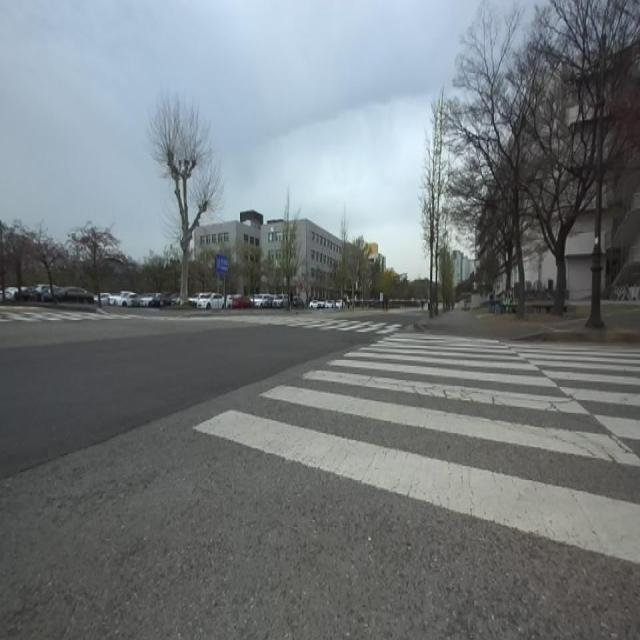sidewalk: (417, 306, 640, 343)
